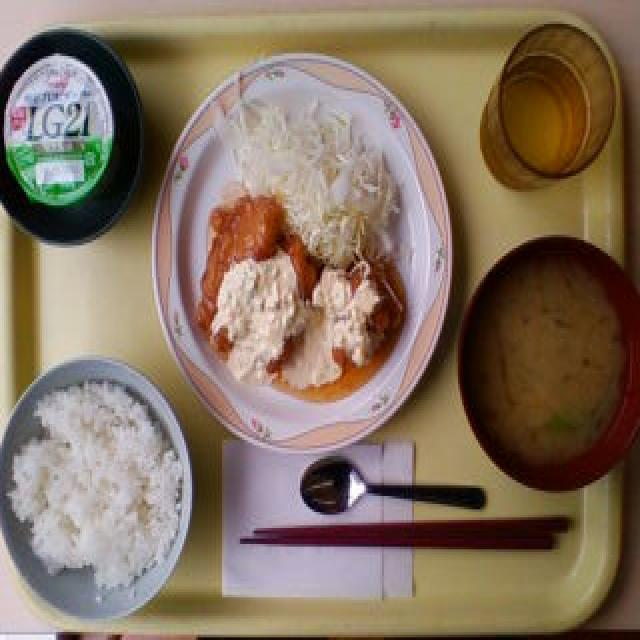Rice: (8, 383, 187, 596)
